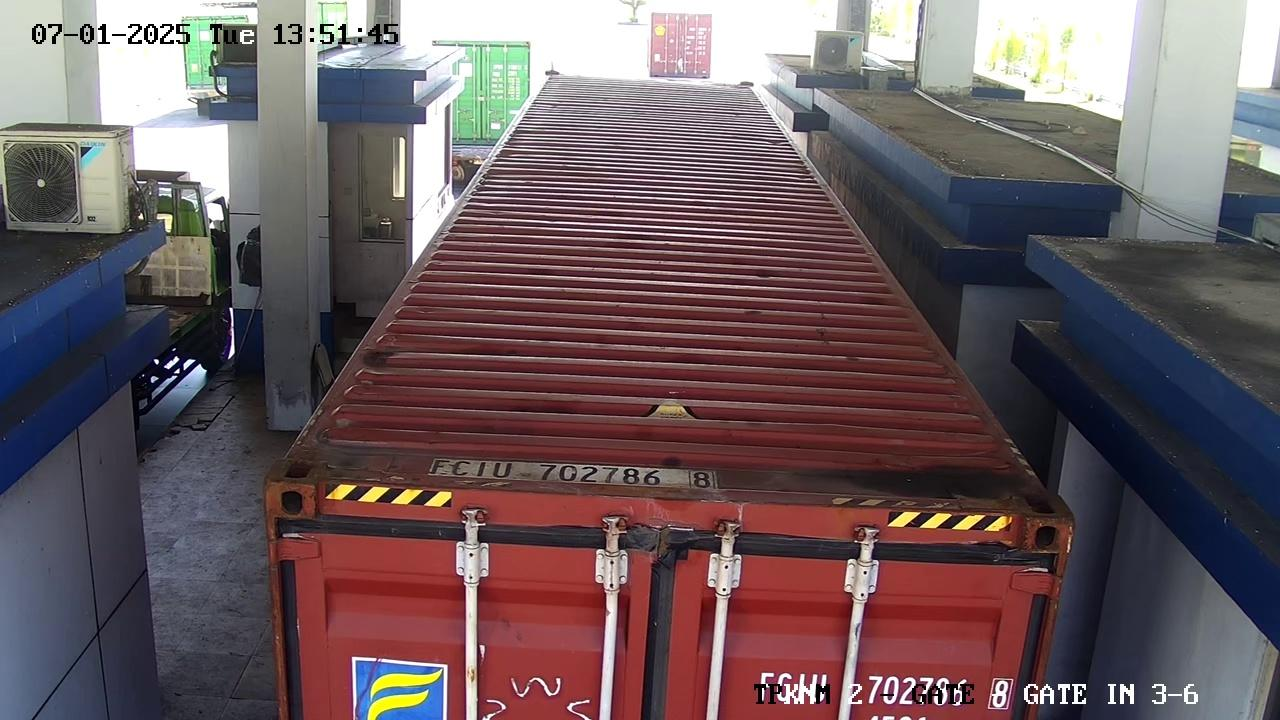Container_ID: (429, 443, 725, 503)
